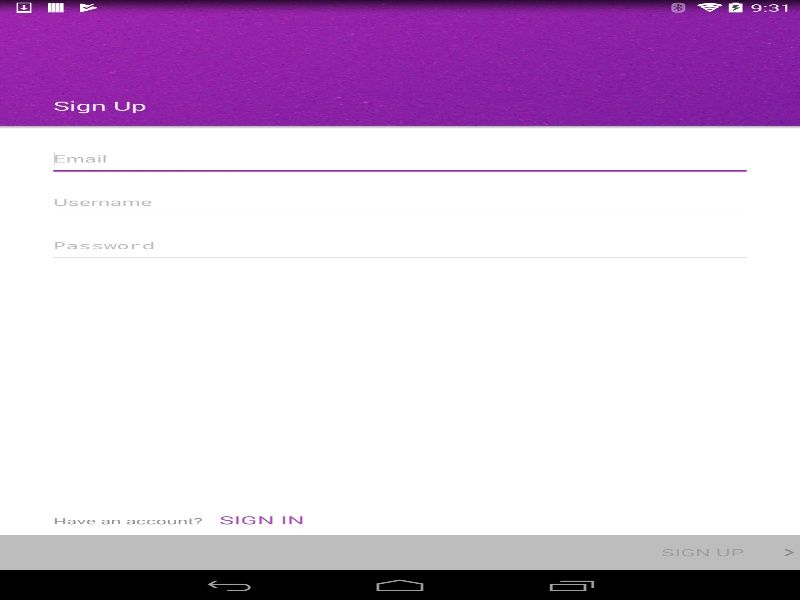Button: (656, 537, 800, 567), (214, 505, 310, 535)
Input: (53, 226, 746, 270), (53, 139, 746, 175), (53, 182, 746, 218)
